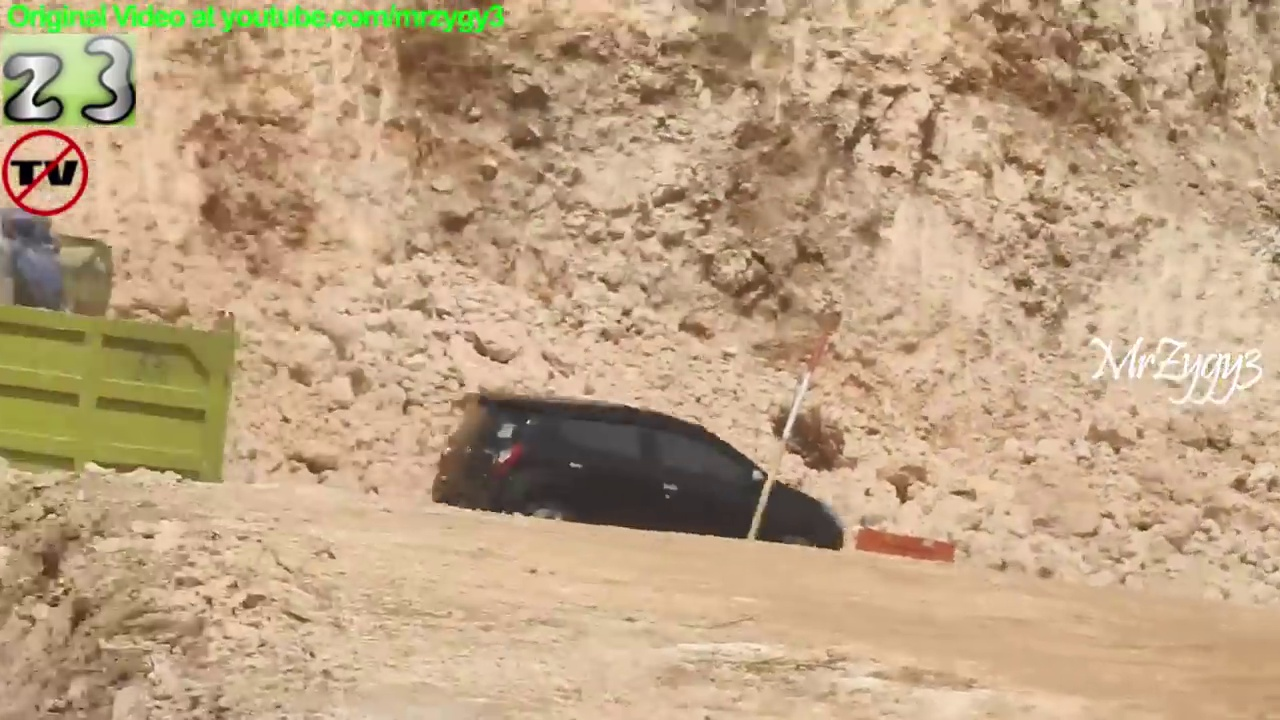truck: (1, 193, 241, 495)
